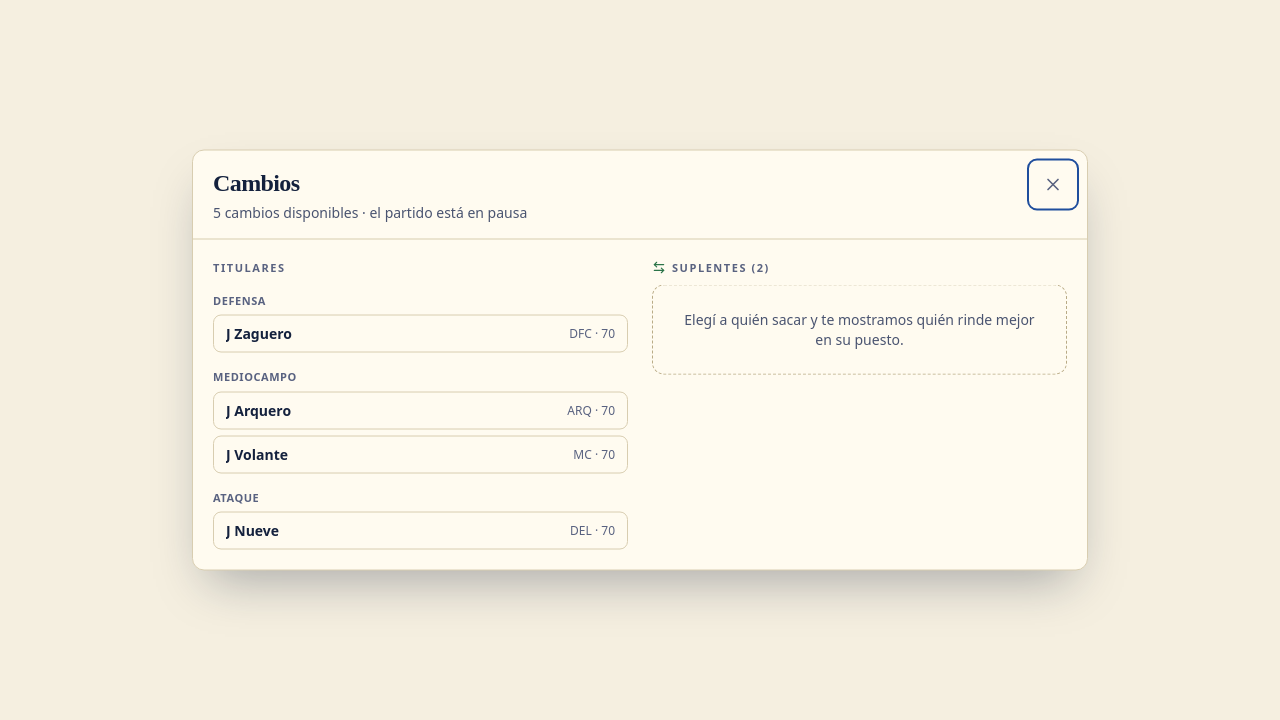
Test case: cambios en escritorio (dos paneles) › al elegir un titular muestra los suplentes, el mejor en ese puesto primero
Click the button "J Nueve DEL · 70" at x=253, y=530, box [213, 512, 628, 550]
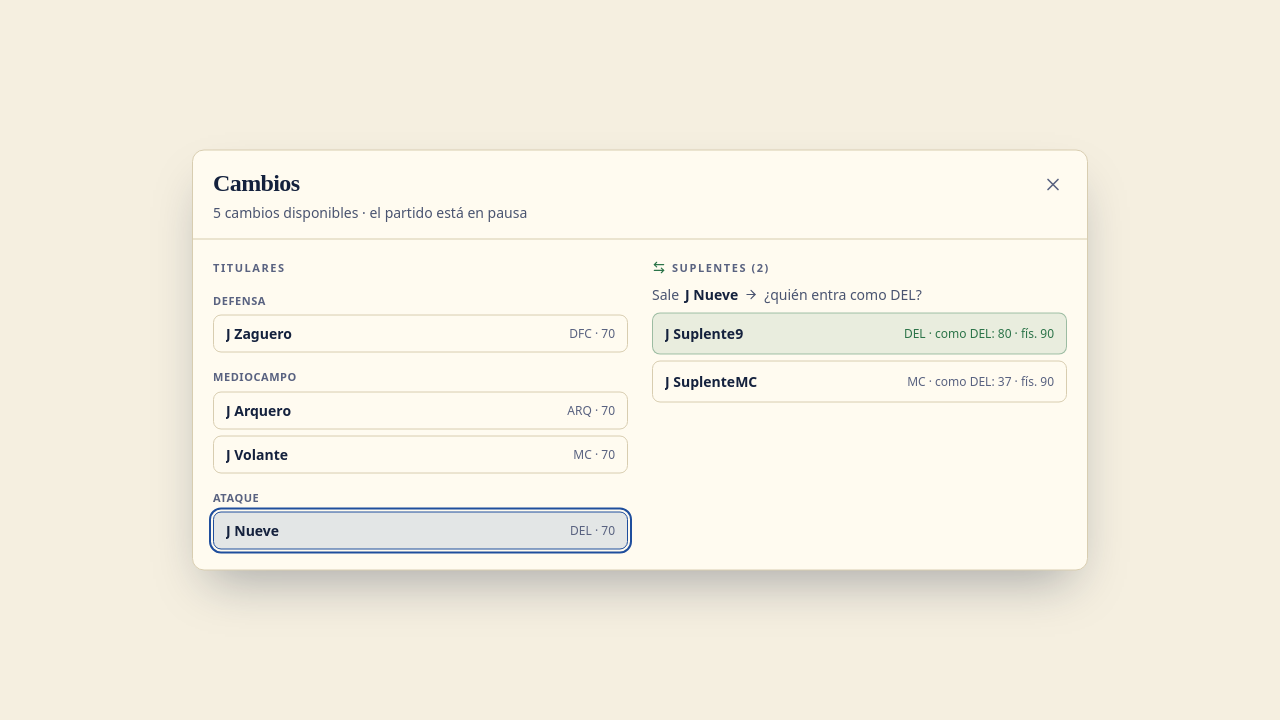
Expected: the button "J Suplente9 DEL · como DEL: 80 · fís. 90" is shown, [652, 312, 1067, 354]
